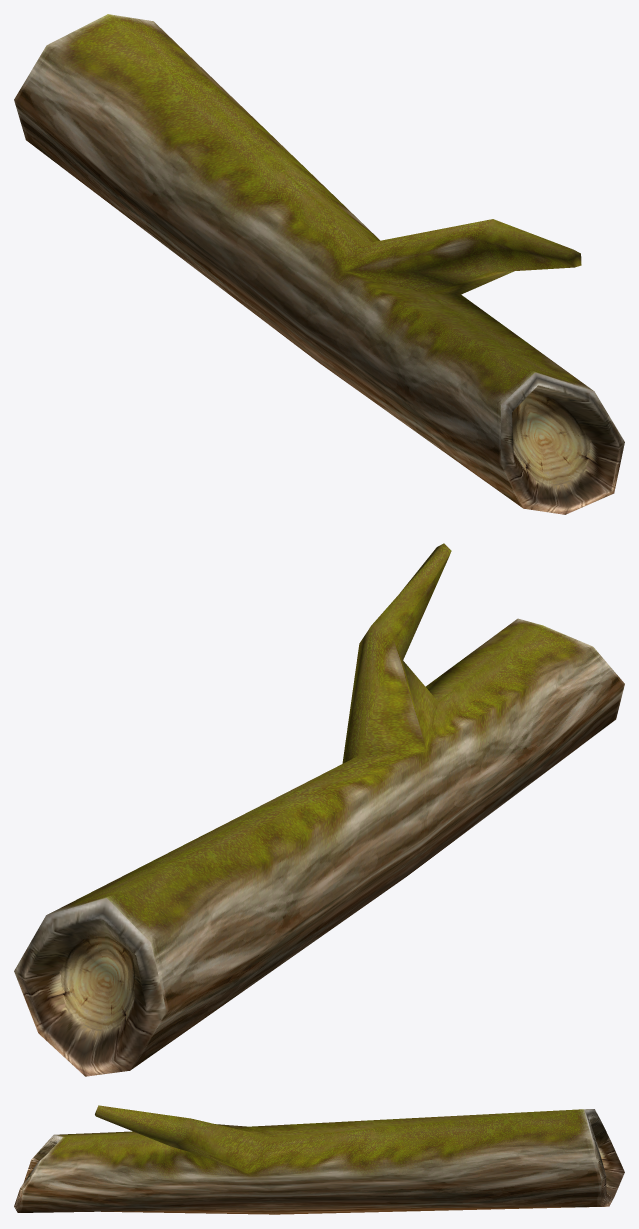
Rendered from redridgefallentree02moss.obj.
3 views of the same model, one above another, from view 1: azimuth 30°, elevation 25°; view 2: azimuth 150°, elevation 25°; view 3: azimuth 270°, elevation 25° (orthographic). The views are drawn at different scales.
Visible parts, largest first — view 1: REDRIDGEFALLENTREE02MOSS0, REDRIDGEFALLENTREE02MOSS1; view 2: REDRIDGEFALLENTREE02MOSS0, REDRIDGEFALLENTREE02MOSS1; view 3: REDRIDGEFALLENTREE02MOSS0, REDRIDGEFALLENTREE02MOSS1.
Boxes of the visible parts, x1,y1,x2,y2 form: REDRIDGEFALLENTREE02MOSS0: (14,14,593,508); REDRIDGEFALLENTREE02MOSS1: (500,372,624,514); REDRIDGEFALLENTREE02MOSS0: (47,543,624,1070); REDRIDGEFALLENTREE02MOSS1: (14,898,166,1076); REDRIDGEFALLENTREE02MOSS0: (18,1105,601,1214); REDRIDGEFALLENTREE02MOSS1: (14,1109,624,1212).
Size of the model in its own units: 2.39 by 3.1 by 13.26.
2 materials, 2 textured.
